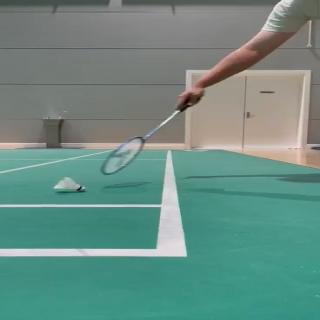Shuttle: (54, 176, 87, 192)
